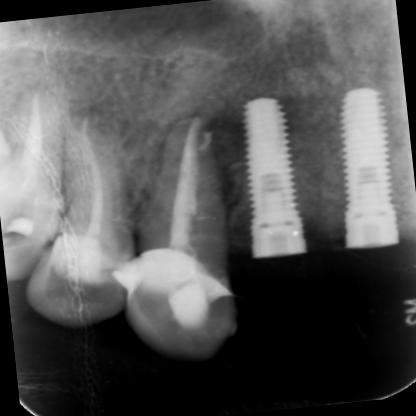Bego: (231, 91, 307, 258), (337, 80, 403, 249)
